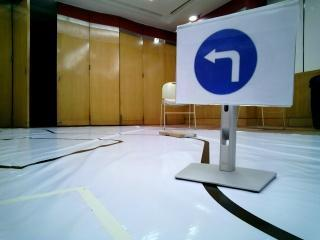left: (178, 27, 281, 103)
